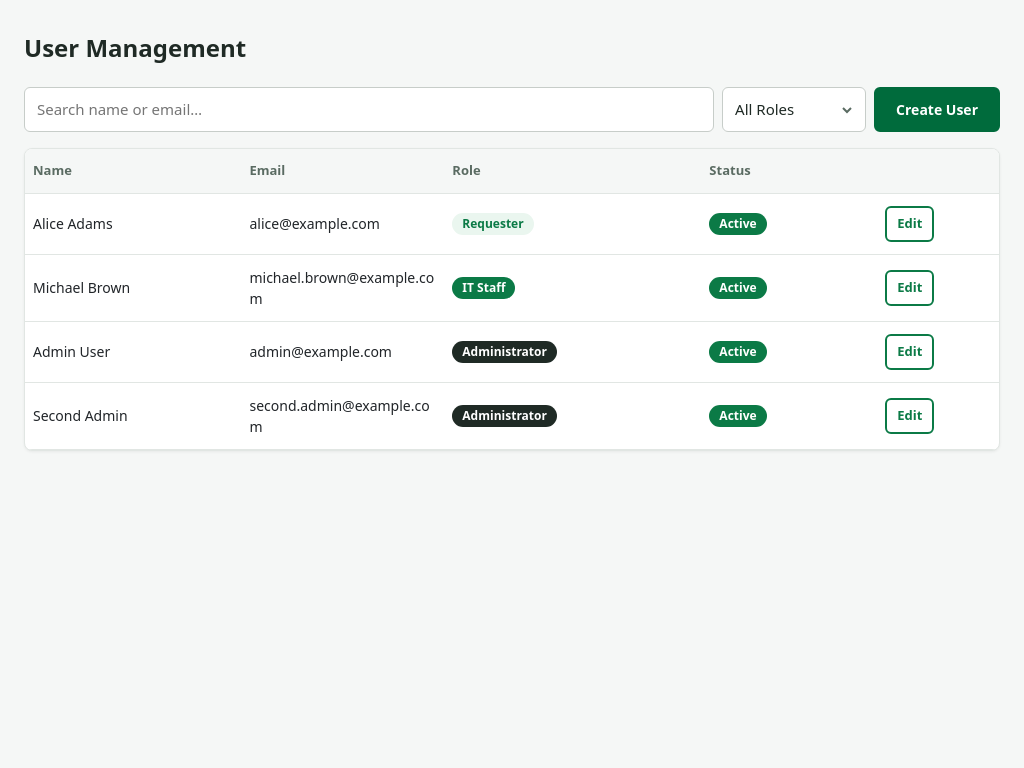
Scenario: UI-23: Self-deactivation and last-admin conflict messages (AC-63, AC-64) › UI-23: a last-admin conflict is shown as a clear banner at the top of the Edit dialog
Expected: the element with test id "users-table" is shown, x1=24 y1=148 x2=1000 y2=451
What coordinates should you click on to do the following:
click the button with aria-label "edit second admin"
I would click on:
 (910, 416)
Its box is x1=885 y1=398 x2=934 y2=434.
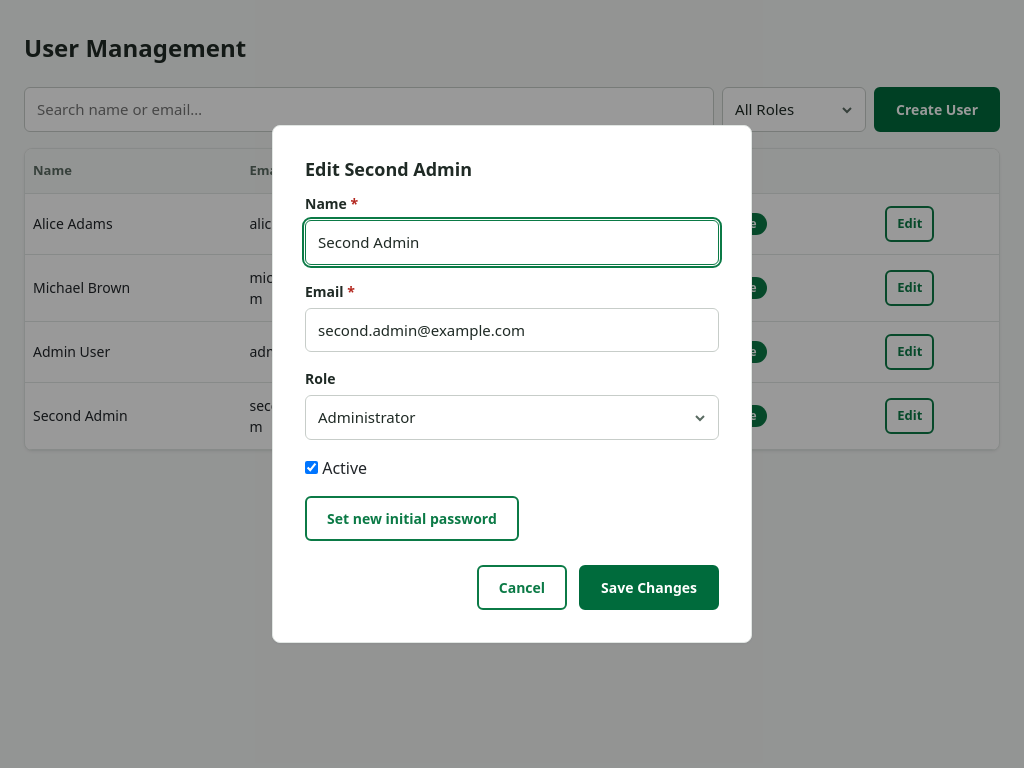
What coordinates should you click on to do the following:
click the checkbox
I would click on:
 (312, 467)
Its box is x1=305 y1=461 x2=318 y2=474.
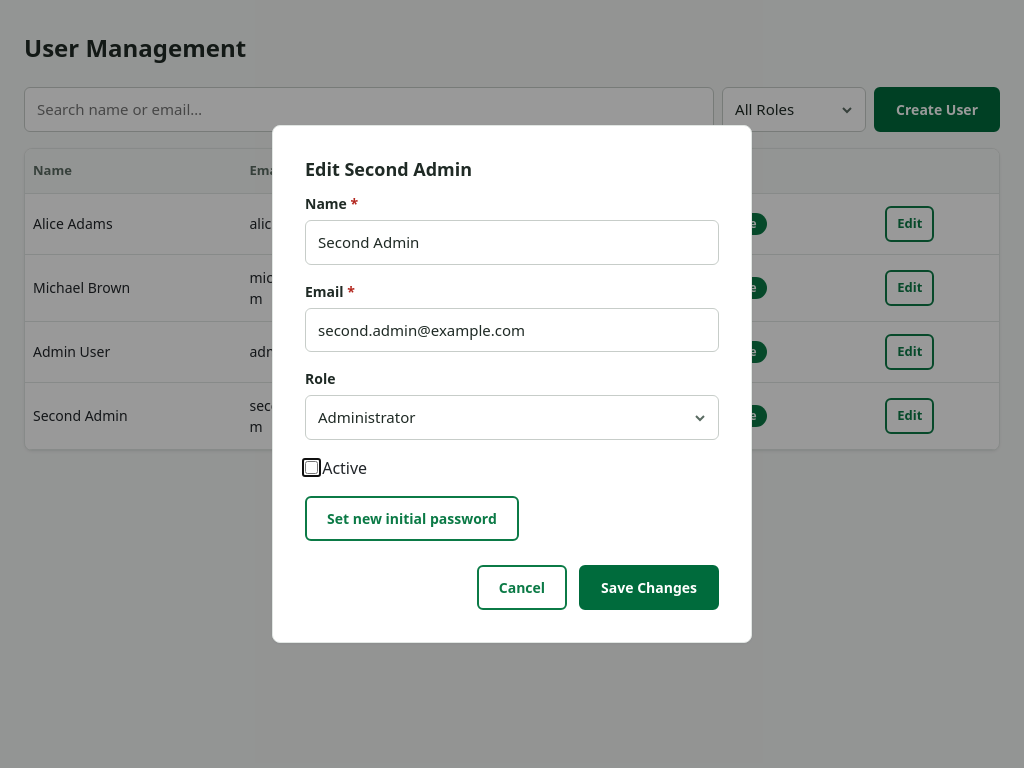
What coordinates should you click on to do the following:
click the button "Save Changes"
I would click on:
 (649, 587)
Its box is x1=579 y1=565 x2=719 y2=610.
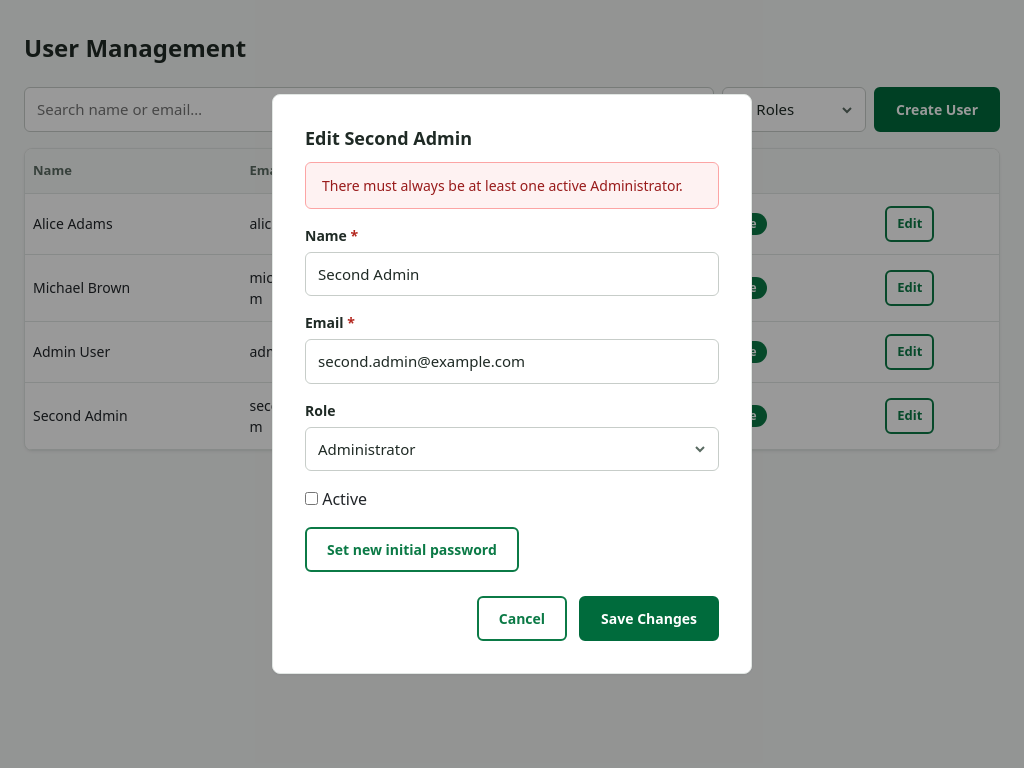
Result: the text "There must always be at least one active Administrator." is shown at x1=305 y1=162 x2=719 y2=209
